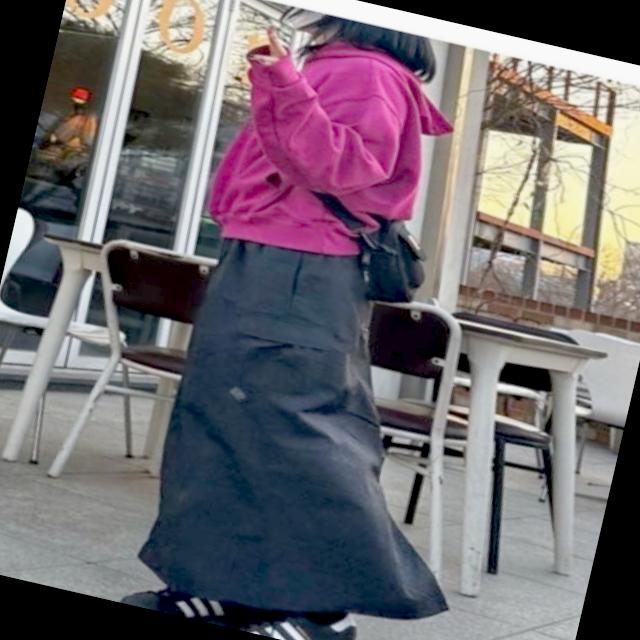hoodies: (198, 14, 467, 278)
skirt: (126, 218, 516, 640)
